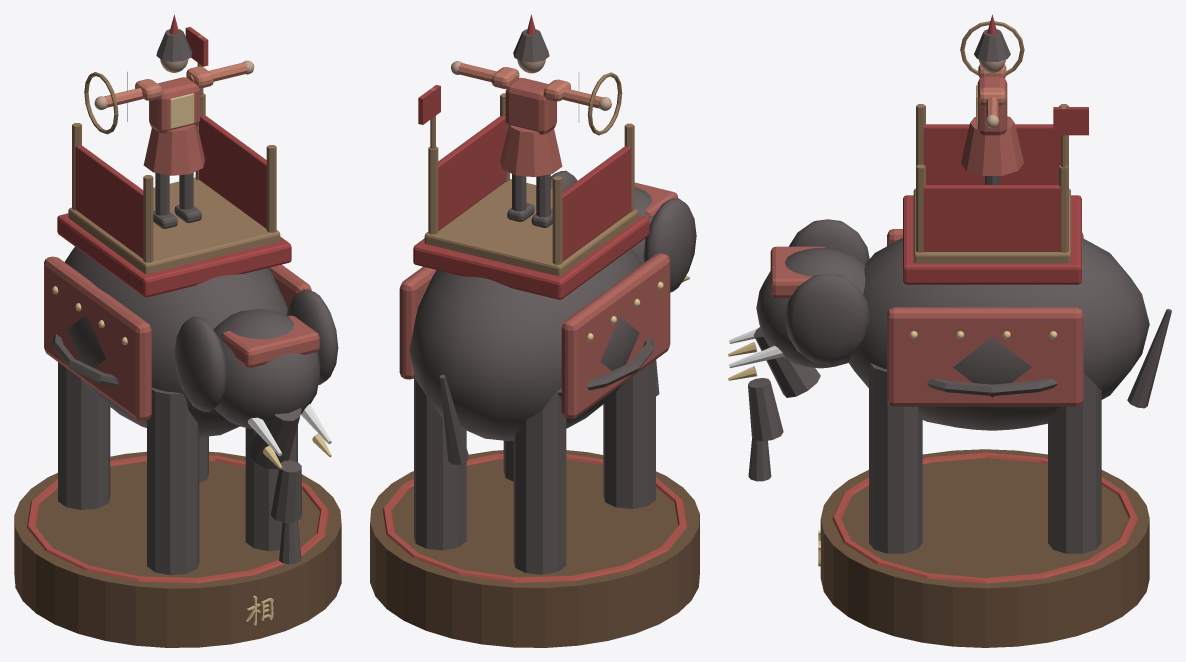
The model's file is elephant_red.glb.
3 views of the same model, side by side, from view 1: azimuth 30°, elevation 25°; view 2: azimuth 150°, elevation 25°; view 3: azimuth 270°, elevation 25° (orthographic).
Parts seen in each view (by area): view 1: base, e_body, e_leg_-0.16_-0.25, e_armor_side_-1, e_head, e_tower_floor, e_leg_-0.16_0.25, e_howdah_pad, e_curtain_-1, e_curtain_1, e_ear_-1, base_trim_top (+20 smaller); view 2: base, e_body, e_armor_side_-1, e_leg_-0.16_0.25, e_tower_floor, e_leg_-0.16_-0.25, e_leg_0.16_0.25, e_howdah_pad, e_curtain_-1, e_curtain_1, base_trim_top, e_ear_-1 (+16 smaller); view 3: base, e_body, e_armor_side_1, e_curtain_1, e_leg_0.16_-0.25, e_leg_0.16_0.25, e_ear_1, e_howdah_pad, e_curtain_-1, e_head, base_trim_top, e_archer_skirt (+14 smaller).
Boxes of the visible parts, x1=… form: base: x1=14, y1=451, x2=341, y2=647; e_body: x1=65, y1=246, x2=287, y2=437; e_leg_-0.16_-0.25: x1=147, y1=387, x2=199, y2=575; e_armor_side_-1: x1=44, y1=256, x2=151, y2=420; e_head: x1=213, y1=309, x2=320, y2=429; e_tower_floor: x1=68, y1=177, x2=280, y2=273; e_leg_-0.16_0.25: x1=58, y1=362, x2=110, y2=509; e_howdah_pad: x1=57, y1=213, x2=291, y2=297; e_curtain_-1: x1=75, y1=145, x2=143, y2=258; e_curtain_1: x1=199, y1=115, x2=266, y2=228; e_ear_-1: x1=174, y1=316, x2=227, y2=411; base_trim_top: x1=27, y1=455, x2=328, y2=583; base: x1=370, y1=450, x2=699, y2=647; e_body: x1=409, y1=248, x2=641, y2=441; e_armor_side_-1: x1=561, y1=253, x2=670, y2=418; e_leg_-0.16_0.25: x1=513, y1=389, x2=566, y2=574; e_tower_floor: x1=424, y1=179, x2=638, y2=276; e_leg_-0.16_-0.25: x1=603, y1=360, x2=655, y2=508; e_leg_0.16_0.25: x1=414, y1=373, x2=466, y2=550; e_howdah_pad: x1=413, y1=215, x2=649, y2=299; e_curtain_-1: x1=562, y1=146, x2=631, y2=260; e_curtain_1: x1=438, y1=116, x2=506, y2=230; base_trim_top: x1=382, y1=454, x2=687, y2=582; e_ear_-1: x1=643, y1=198, x2=696, y2=292; base: x1=820, y1=449, x2=1149, y2=647; e_body: x1=849, y1=237, x2=1149, y2=430; e_armor_side_1: x1=887, y1=307, x2=1083, y2=406; e_curtain_1: x1=923, y1=185, x2=1060, y2=251; e_leg_0.16_-0.25: x1=869, y1=363, x2=922, y2=553; e_leg_0.16_0.25: x1=1048, y1=373, x2=1101, y2=553; e_ear_1: x1=785, y1=273, x2=870, y2=364; e_howdah_pad: x1=903, y1=195, x2=1081, y2=284; e_curtain_-1: x1=923, y1=124, x2=1060, y2=184; e_head: x1=756, y1=247, x2=865, y2=368; base_trim_top: x1=832, y1=452, x2=1137, y2=583; e_archer_skirt: x1=961, y1=116, x2=1023, y2=175.
Bounding box in the file's own units: 0.92 × 1.74 × 1.24.
